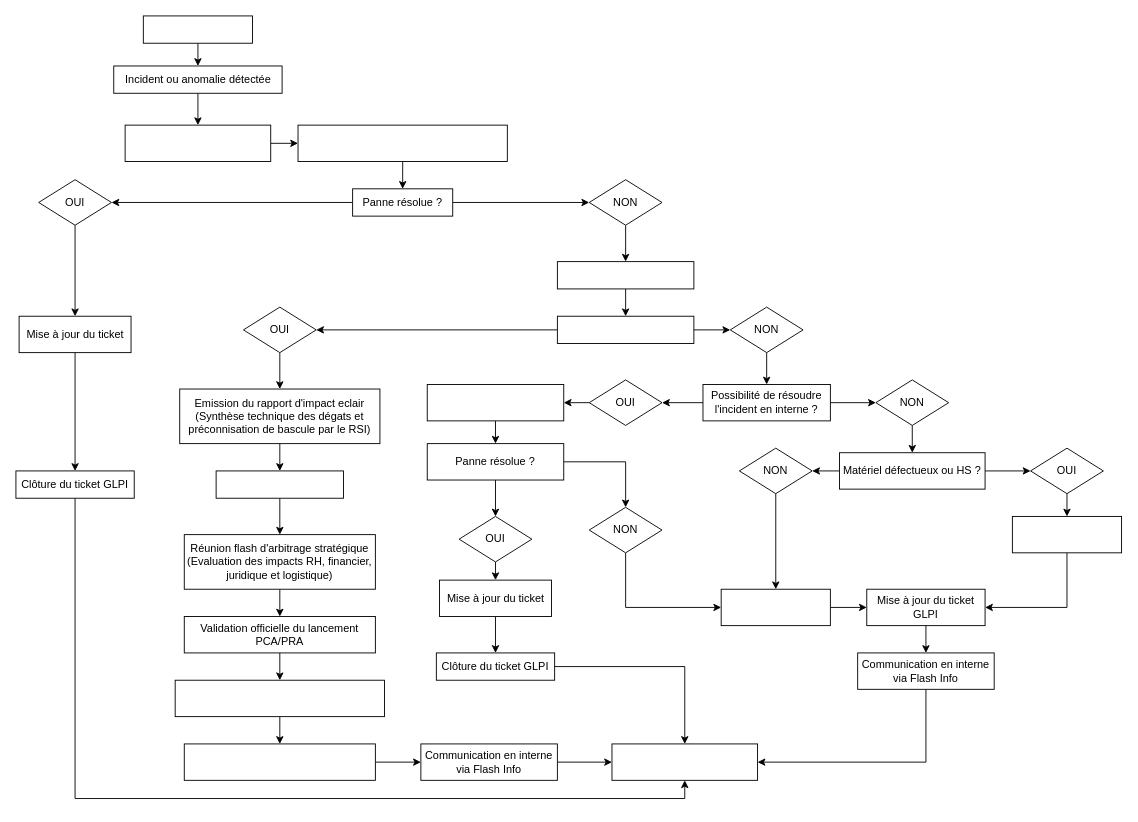
This 1138x822 diagram has some shape labels left out. Each missing label, with the centre of its shape:
"Alerte transmise au DGS" goes at (279,484).
"Diagnostic en profondeur" goes at (495,402).
"Diagnostic initial par l'autorité compétente" goes at (197,143).
"Début" goes at (197,29).
"Déclenchement officiel du PCA/PRA" goes at (279,761).
"Escalade N3 vers infogérence" goes at (775,607).
"Escalade vers constructeur" goes at (1066,534).
"Fin Poursuite de la procédure" goes at (684,761).
"Impact un service vital ?" goes at (625,329).
"Qualification de la gravité par le RSI" goes at (625,275).
"Signature de l'arreté de crise par le DGS" goes at (279,698).
"Tentative de remédiation locale immédiate" goes at (402,143).
